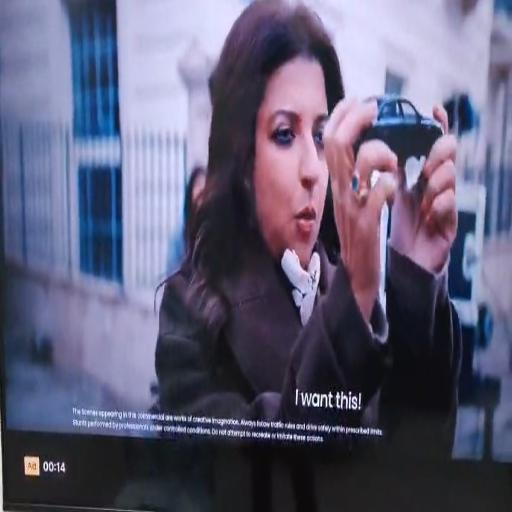ad label: (23, 454, 43, 482)
